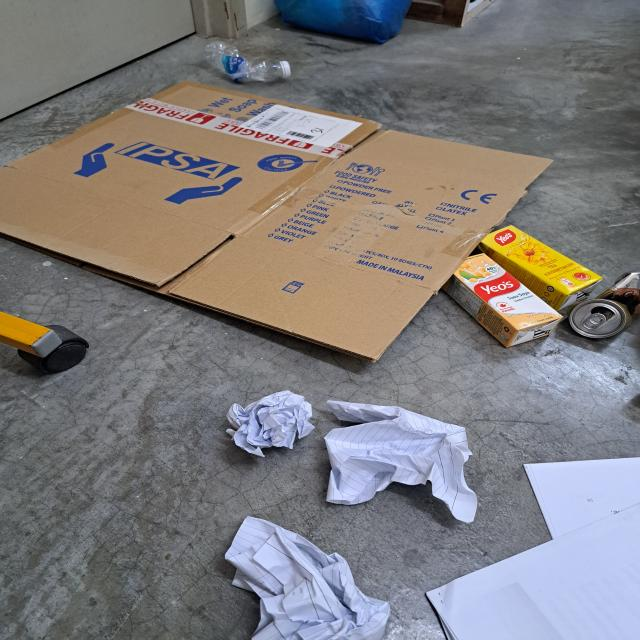can: (568, 269, 640, 338)
cardboard: (0, 82, 555, 362)
drink carton: (444, 252, 563, 348), (477, 225, 603, 313)
paper: (426, 501, 640, 640), (322, 398, 477, 524), (523, 456, 640, 538), (226, 389, 314, 457)
plastic bag: (277, 0, 417, 46)
plastic bottle: (203, 41, 283, 84)
plastic bottle cap: (280, 60, 291, 78)
pop tab: (580, 313, 607, 331)
